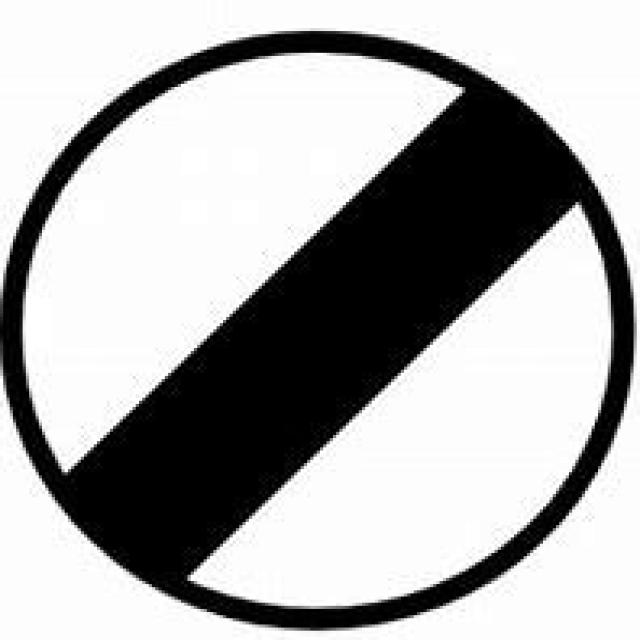RESTRICTION_ENDS: (0, 26, 640, 625)
